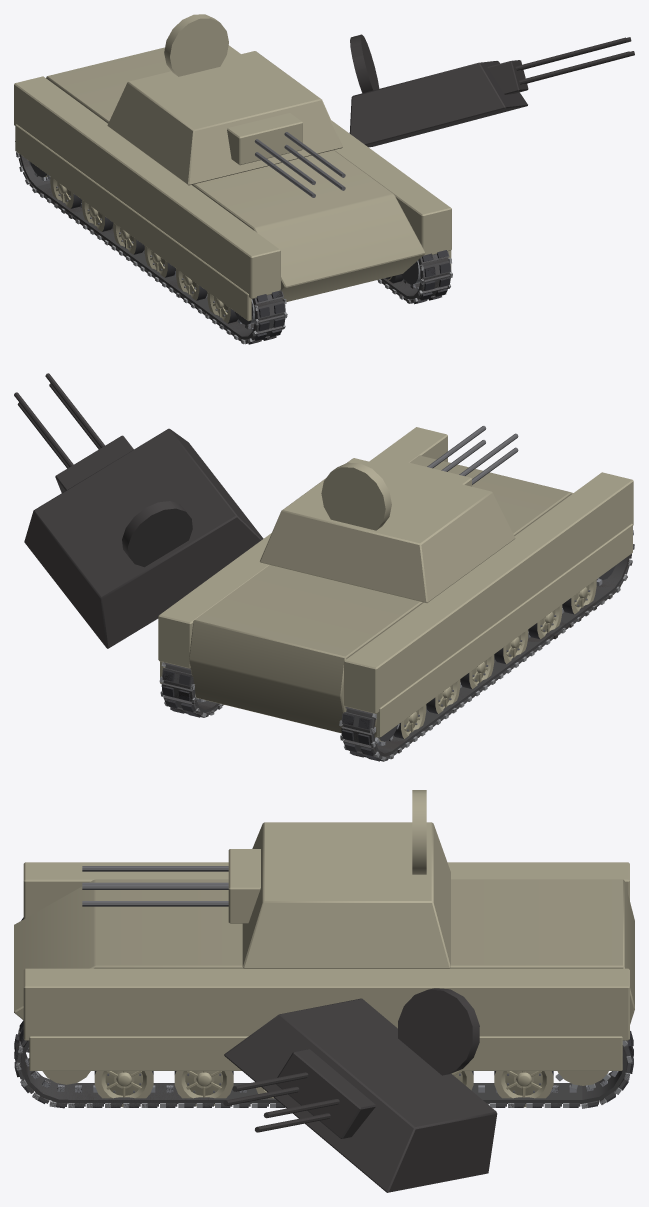
The model's file is aaVehicle__zsu_23_4_shilka.glb.
3 views of the same model, one above another, from view 1: azimuth 30°, elevation 25°; view 2: azimuth 150°, elevation 25°; view 3: azimuth 270°, elevation 25° (orthographic). The views are drawn at different scales.
Parts seen in each view (by area): view 1: Hull_Mesh, Turret_Mesh, Wreck, Track_L_Mesh, Gun_Mesh, Track_R_Mesh, Wheel_L3_Mesh, Wheel_L0_Mesh, Wheel_L2_Mesh, Wheel_L4_Mesh, Wheel_L1_Mesh, Wheel_L5_Mesh; view 2: Hull_Mesh, Wreck, Turret_Mesh, Track_L_Mesh, Gun_Mesh, Track_R_Mesh, Wheel_L3_Mesh, Wheel_L1_Mesh, Wheel_L4_Mesh, Wheel_L5_Mesh, Wheel_L2_Mesh, Wheel_L0_Mesh; view 3: Hull_Mesh, Wreck, Turret_Mesh, Track_R_Mesh, Gun_Mesh, Wheel_R0_Mesh, Wheel_R5_Mesh, Wheel_R4_Mesh, Sprocket_R_Mesh.
Boxes of the visible parts, box(x1,y1,x2,y2) form: Hull_Mesh: box(14, 45, 451, 321); Turret_Mesh: box(107, 14, 342, 185); Wreck: box(16, 34, 634, 343); Track_L_Mesh: box(15, 141, 287, 344); Gun_Mesh: box(227, 113, 345, 197); Track_R_Mesh: box(377, 250, 452, 304); Wheel_L3_Mesh: box(144, 246, 175, 277); Wheel_L0_Mesh: box(50, 177, 81, 208); Wheel_L2_Mesh: box(113, 223, 144, 254); Wheel_L4_Mesh: box(176, 269, 207, 300); Wheel_L1_Mesh: box(82, 200, 113, 231); Wheel_L5_Mesh: box(207, 291, 237, 323); Hull_Mesh: box(158, 427, 633, 737); Wreck: box(14, 373, 634, 761); Turret_Mesh: box(260, 458, 515, 602); Track_L_Mesh: box(339, 530, 634, 761); Gun_Mesh: box(395, 426, 518, 486); Track_R_Mesh: box(159, 662, 223, 717); Wheel_L3_Mesh: box(494, 629, 528, 664); Wheel_L1_Mesh: box(426, 679, 460, 714); Wheel_L4_Mesh: box(528, 605, 562, 639); Wheel_L5_Mesh: box(562, 579, 596, 614); Wheel_L2_Mesh: box(460, 654, 494, 689); Wheel_L0_Mesh: box(393, 704, 426, 738); Hull_Mesh: box(14, 862, 634, 1070); Wreck: box(14, 988, 633, 1192); Turret_Mesh: box(242, 790, 450, 968); Track_R_Mesh: box(14, 1020, 633, 1108); Gun_Mesh: box(82, 849, 260, 923); Wheel_R0_Mesh: box(494, 1071, 553, 1107); Wheel_R5_Mesh: box(94, 1071, 153, 1107); Wheel_R4_Mesh: box(174, 1071, 233, 1106); Sprocket_R_Mesh: box(555, 1071, 610, 1089).
Size of what is drawn, in the model's own units: 7.72 by 3.1 by 6.83.
